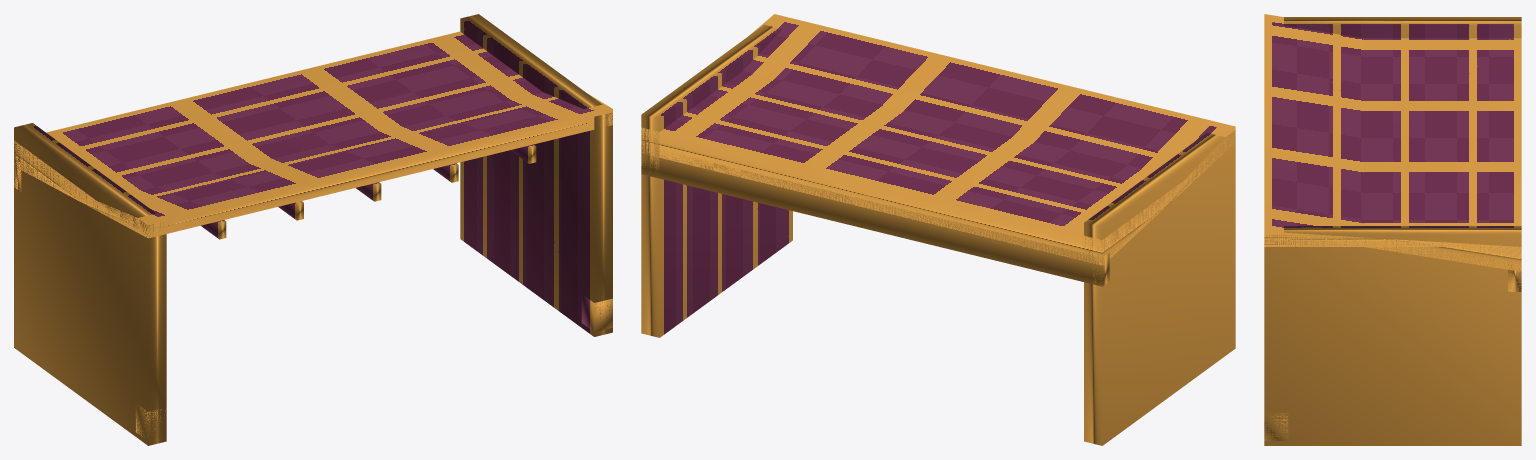
Rendered from SM_Env_CairoAwning_B.obj.
3 renders of one model, left to right at view 1: azimuth 30°, elevation 25°; view 2: azimuth 150°, elevation 25°; view 3: azimuth 270°, elevation 25°, orthographic. The views are drawn at different scales.
Parts seen in each view (by area): view 1: SM_Env_CairoAwning_B; view 2: SM_Env_CairoAwning_B; view 3: SM_Env_CairoAwning_B.
Part boxes in pixels (left/top/right/bottom): SM_Env_CairoAwning_B: left=14, top=14, right=612, bottom=445; SM_Env_CairoAwning_B: left=641, top=14, right=1235, bottom=445; SM_Env_CairoAwning_B: left=1264, top=14, right=1521, bottom=445.
Size of the model in its own units: 3 by 1.38 by 1.5.
1 material, 1 textured.
